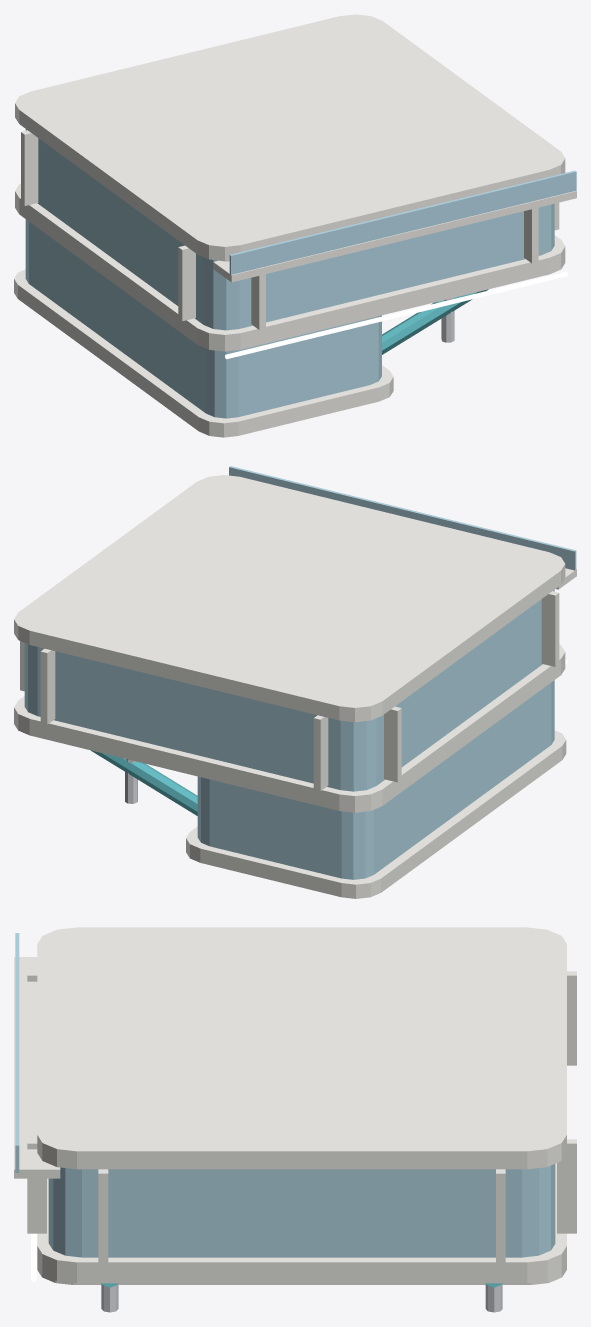
Rendered from arcology-towers-and-skyways-offset-cantilever-section-42ae421c__23241.glb.
The picture shows the model from 3 angles, top to bottom: view 1: azimuth 30°, elevation 25°; view 2: azimuth 150°, elevation 25°; view 3: azimuth 270°, elevation 25°; orthographic projection. The views are drawn at different scales.
Parts seen in each view (by area): view 1: offset-cantilever-section; view 2: offset-cantilever-section; view 3: offset-cantilever-section.
Boxes of the visible parts, x1,y1,x2,y2 form: offset-cantilever-section: (14,14,576,437); offset-cantilever-section: (14,466,576,898); offset-cantilever-section: (14,927,576,1312).
Bounding box in the file's own units: 16.6 × 8 × 17.
